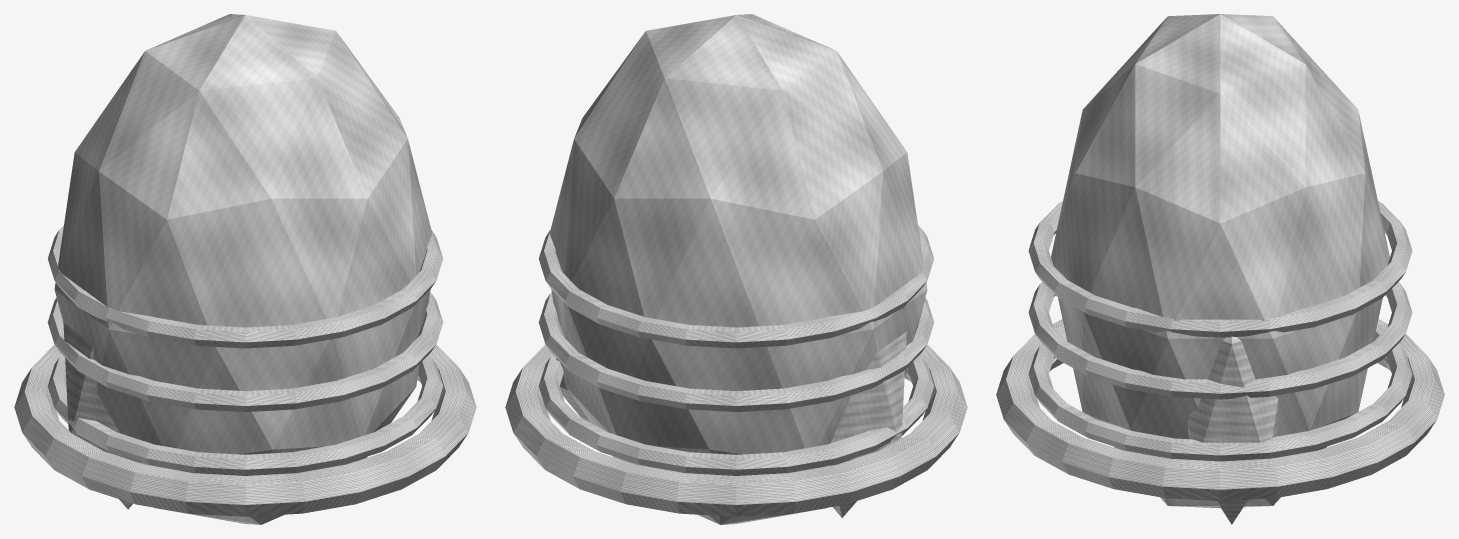
File: item-time-crystal_variant_c.glb
3 views of the same model, side by side, from view 1: azimuth 30°, elevation 25°; view 2: azimuth 150°, elevation 25°; view 3: azimuth 270°, elevation 25° (orthographic). The views are drawn at different scales.
Visible parts, largest first — view 1: Faceted crystal.003, Crystal containment ring.003, Variant collar, Variant collar.001, Variant collar.002, Crystal shard.005; view 2: Faceted crystal.003, Crystal containment ring.003, Variant collar, Variant collar.001, Variant collar.002, Crystal shard.005; view 3: Faceted crystal.003, Crystal containment ring.003, Variant collar, Variant collar.002, Variant collar.001, Crystal shard.006.
Part boxes in pixels (left/top/right/bottom): Faceted crystal.003: left=54, top=14, right=432, bottom=524; Crystal containment ring.003: left=14, top=344, right=476, bottom=516; Variant collar: left=47, top=355, right=443, bottom=475; Variant collar.001: left=47, top=292, right=443, bottom=411; Variant collar.002: left=48, top=225, right=442, bottom=348; Crystal shard.005: left=63, top=322, right=141, bottom=509; Faceted crystal.003: left=549, top=14, right=927, bottom=524; Crystal containment ring.003: left=505, top=344, right=967, bottom=516; Variant collar: left=538, top=355, right=934, bottom=475; Variant collar.001: left=538, top=292, right=934, bottom=411; Variant collar.002: left=539, top=225, right=933, bottom=348; Crystal shard.005: left=824, top=331, right=906, bottom=517; Faceted crystal.003: left=1051, top=14, right=1389, bottom=508; Crystal containment ring.003: left=996, top=319, right=1444, bottom=501; Variant collar: left=1028, top=324, right=1412, bottom=461; Variant collar.002: left=1028, top=201, right=1412, bottom=337; Variant collar.001: left=1028, top=282, right=1412, bottom=399; Crystal shard.006: left=1188, top=336, right=1278, bottom=524.
Size of what is drawn, in the model's own units: 0.79 by 0.96 by 0.79.
Materials: 4 (4 with a texture image).
